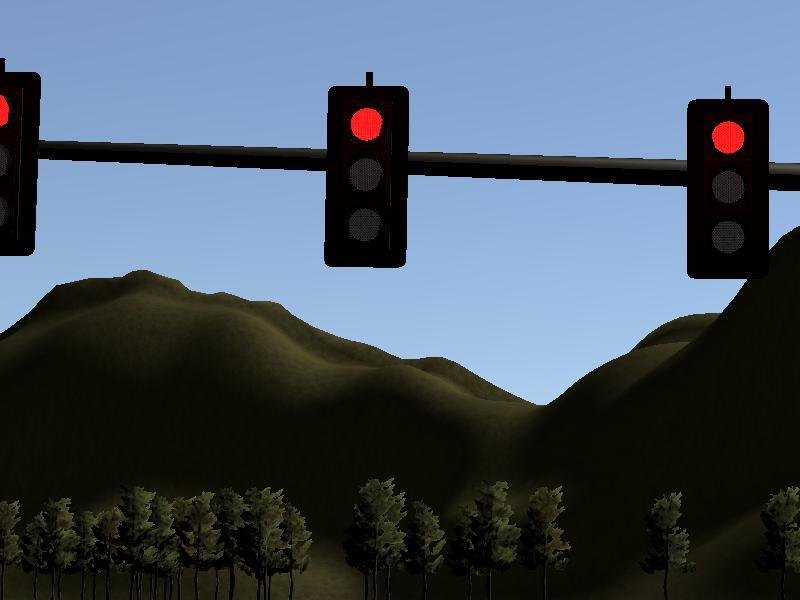Red: (685, 99, 768, 280), (324, 86, 407, 267)
